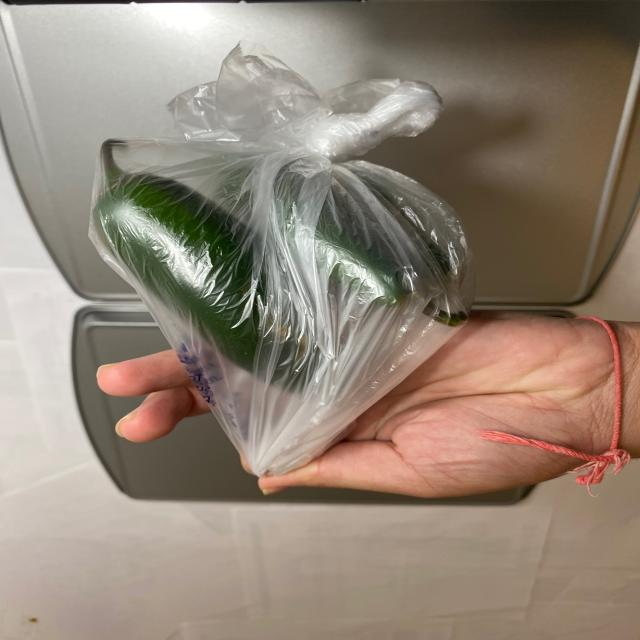chilli: (96, 132, 463, 402)
